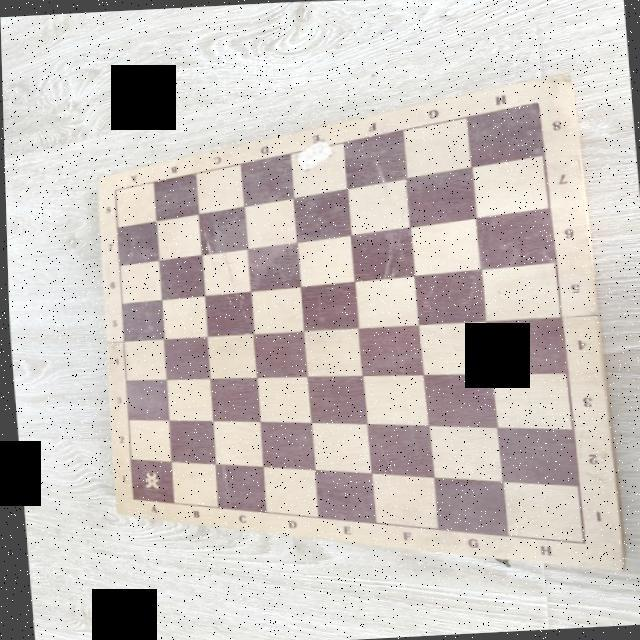chess-table-corners: (565, 525, 597, 558), (522, 92, 552, 112), (122, 490, 138, 506), (106, 182, 122, 196)
